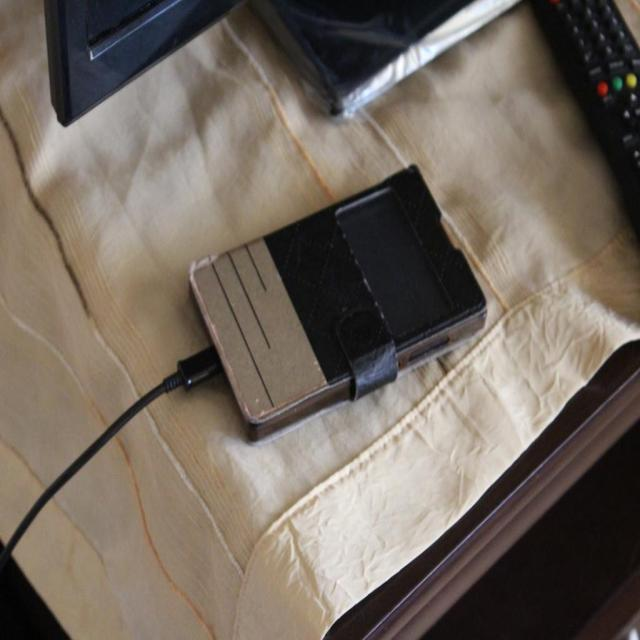Phone: (188, 162, 486, 438)
